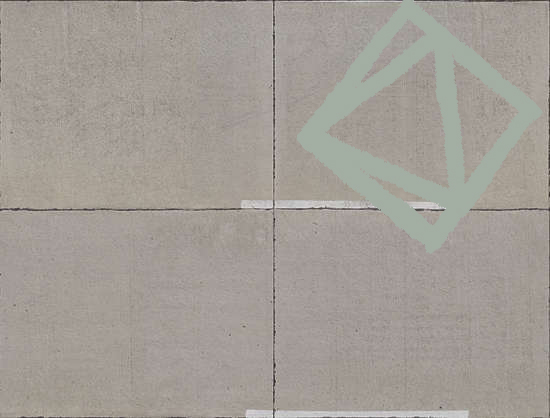marker: (294, 1, 544, 258)
